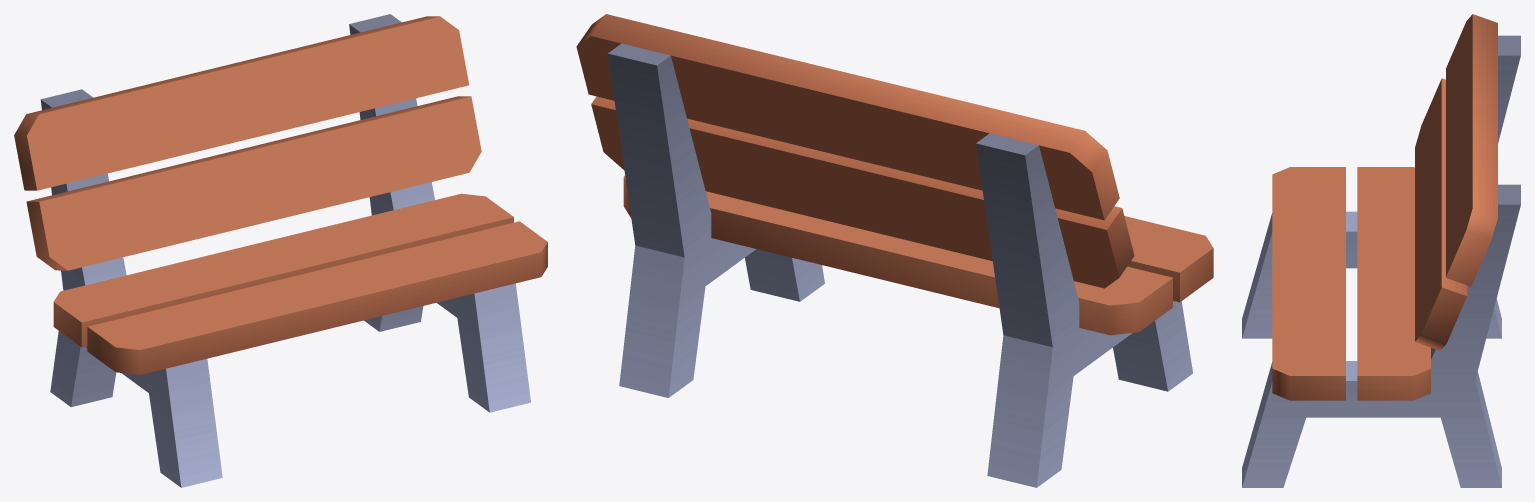
The model's file is bench_0.fbx.
3 renders of one model, left to right at view 1: azimuth 30°, elevation 25°; view 2: azimuth 150°, elevation 25°; view 3: azimuth 270°, elevation 25°, orthographic. The views are drawn at different scales.
Parts seen in each view (by area): view 1: bench_0; view 2: bench_0; view 3: bench_0.
Boxes of the visible parts, box(x1,y1,x2,y2) form: bench_0: box(14, 14, 547, 487); bench_0: box(576, 14, 1213, 487); bench_0: box(1242, 14, 1520, 487).
Bounding box in the file's own units: 1.12 × 0.7305 × 0.6321.
1 material, 1 textured.
